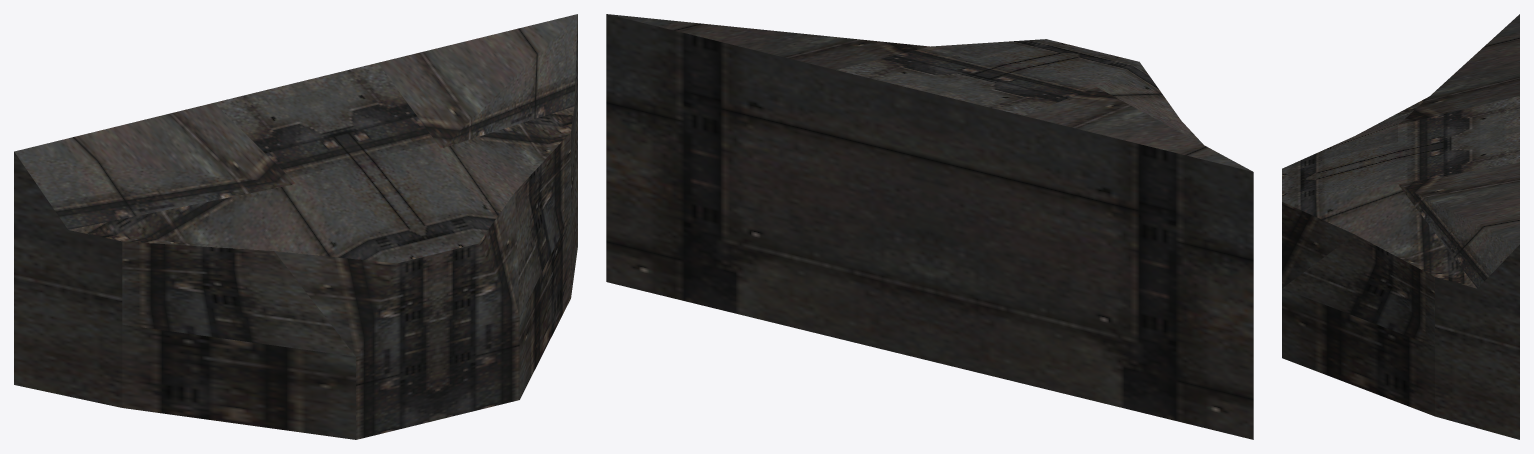
Rendered from monkeylabschairwall.gltf.
3 views of the same model, side by side, from view 1: azimuth 30°, elevation 25°; view 2: azimuth 150°, elevation 25°; view 3: azimuth 270°, elevation 25° (orthographic). The views are drawn at different scales.
Visible parts, largest first — view 1: Cube; view 2: Cube; view 3: Cube.
Boxes of the visible parts, x1,y1,x2,y2 form: Cube: (14,14,577,439); Cube: (606,14,1253,439); Cube: (1282,14,1519,439).
Bounding box in the file's own units: 26.92 × 10.65 × 11.74.
Materials: 1 (1 with a texture image).
